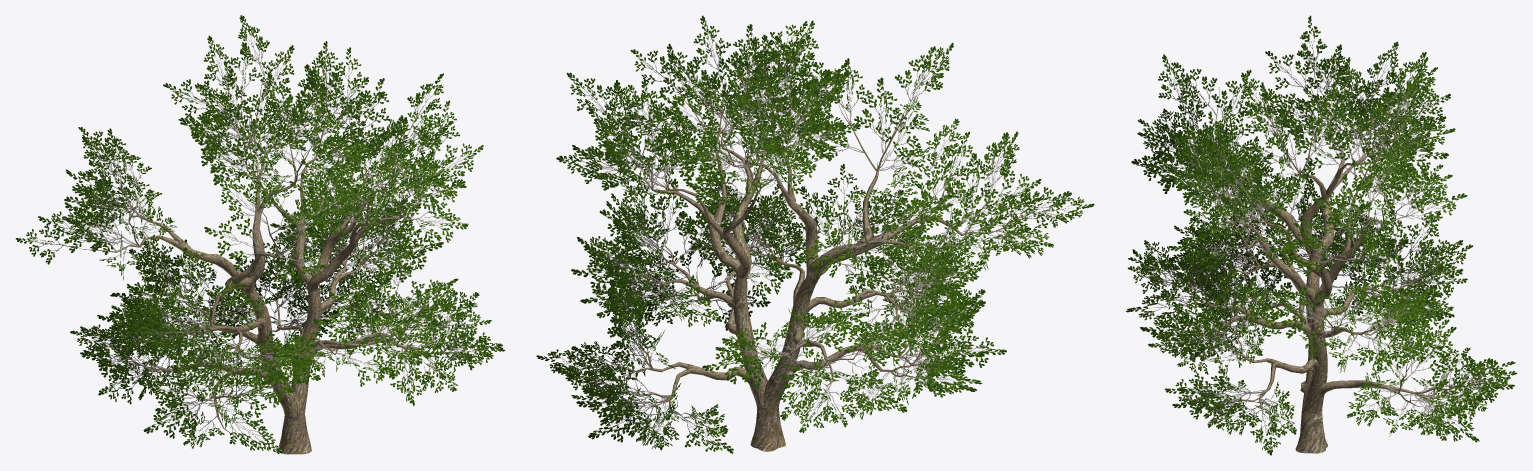
Rendered from oak_tree.glb.
3 views of the same model, side by side, from view 1: azimuth 30°, elevation 25°; view 2: azimuth 150°, elevation 25°; view 3: azimuth 270°, elevation 25° (orthographic). The views are drawn at different scales.
Visible parts, largest first — view 1: oak leaf_1_oak leaf_1Mat_0, mossybark02_0_mossybark02_0Mat_0; view 2: oak leaf_1_oak leaf_1Mat_0, mossybark02_0_mossybark02_0Mat_0; view 3: oak leaf_1_oak leaf_1Mat_0, mossybark02_0_mossybark02_0Mat_0.
Boxes of the visible parts, bbox=[...] form: oak leaf_1_oak leaf_1Mat_0: bbox=[15, 15, 505, 453]; mossybark02_0_mossybark02_0Mat_0: bbox=[78, 70, 446, 454]; oak leaf_1_oak leaf_1Mat_0: bbox=[536, 15, 1094, 453]; mossybark02_0_mossybark02_0Mat_0: bbox=[605, 79, 1030, 451]; oak leaf_1_oak leaf_1Mat_0: bbox=[1126, 15, 1516, 455]; mossybark02_0_mossybark02_0Mat_0: bbox=[1177, 81, 1468, 453].
Size of the model in its own units: 10.53 by 8.83 by 8.19.
Materials: 2 (2 with a texture image).
